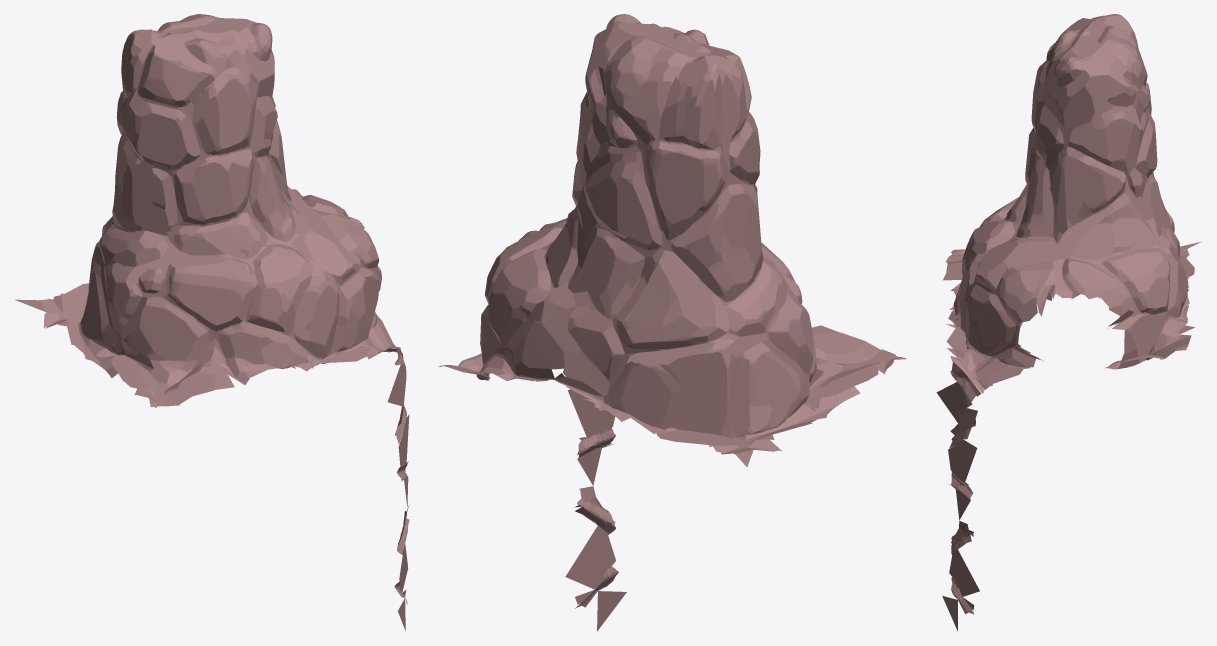
File: cliff_area_2.fbx_Cliff_Area_2_002LODs.fbx
3 views of the same model, side by side, from view 1: azimuth 30°, elevation 25°; view 2: azimuth 150°, elevation 25°; view 3: azimuth 270°, elevation 25° (orthographic). The views are drawn at different scales.
Visible parts, largest first — view 1: Cliff Area 2.002_LOD0; view 2: Cliff Area 2.002_LOD0; view 3: Cliff Area 2.002_LOD0.
Part boxes in pixels (left/top/right/bottom): Cliff Area 2.002_LOD0: left=15, top=14, right=409, bottom=630; Cliff Area 2.002_LOD0: left=439, top=14, right=906, bottom=631; Cliff Area 2.002_LOD0: left=936, top=14, right=1201, bottom=631.
Size of what is drawn, in the model's own units: 3772 by 7715 by 3452.
